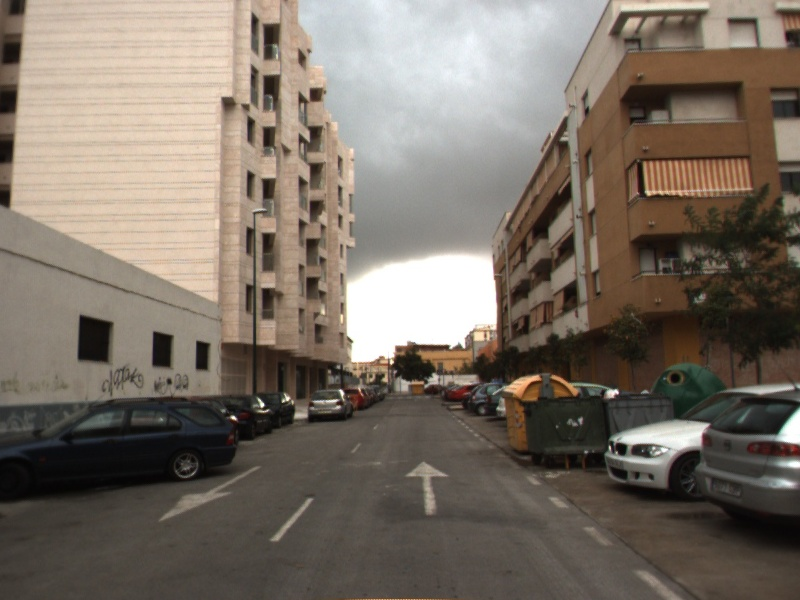STRAIGHT: (403, 459, 452, 517)
